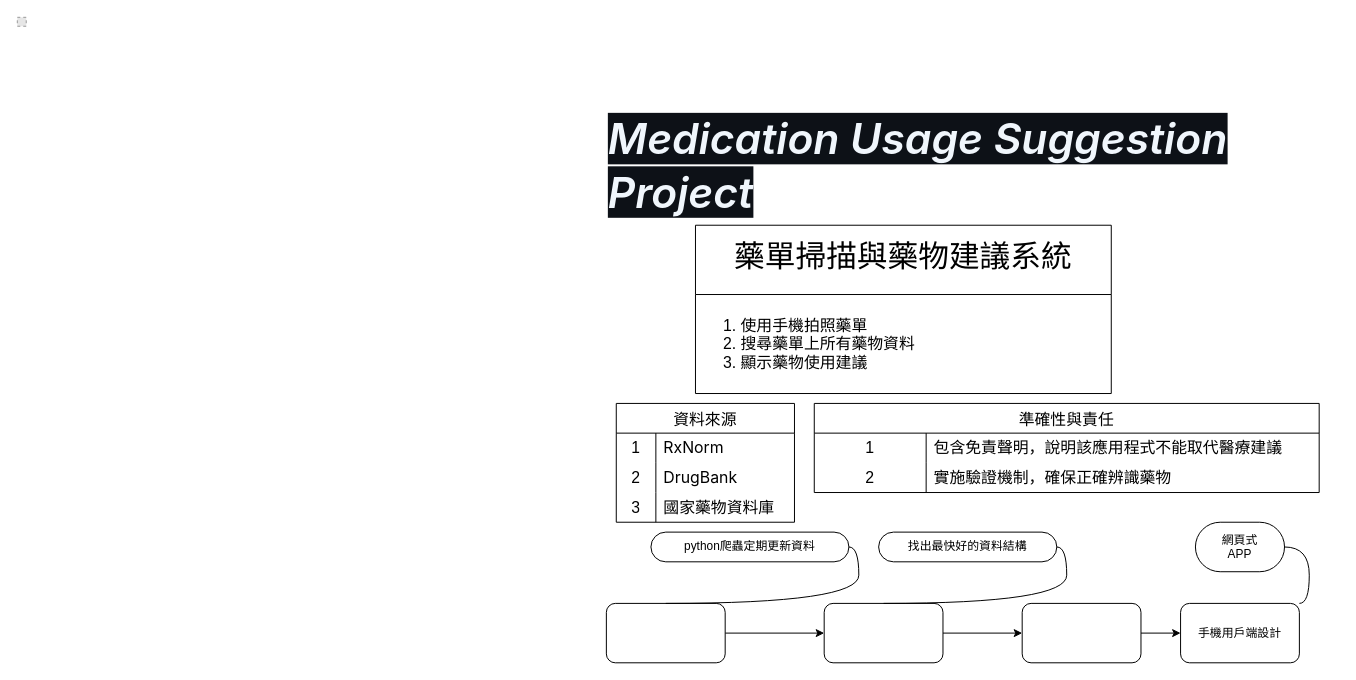
The diagram is 1356 pixels wide and 680 high, and some of its shapes have lost their labels. Grey dashed boxes stand in for pictures. Here are the shapes that lost their labels. From the top down, the centre of each, then its label:
At point 665,632: "建立獲取".
At point 883,632: "資料庫建立/搜尋".
At point 1081,632: "圖像文字擷取".
